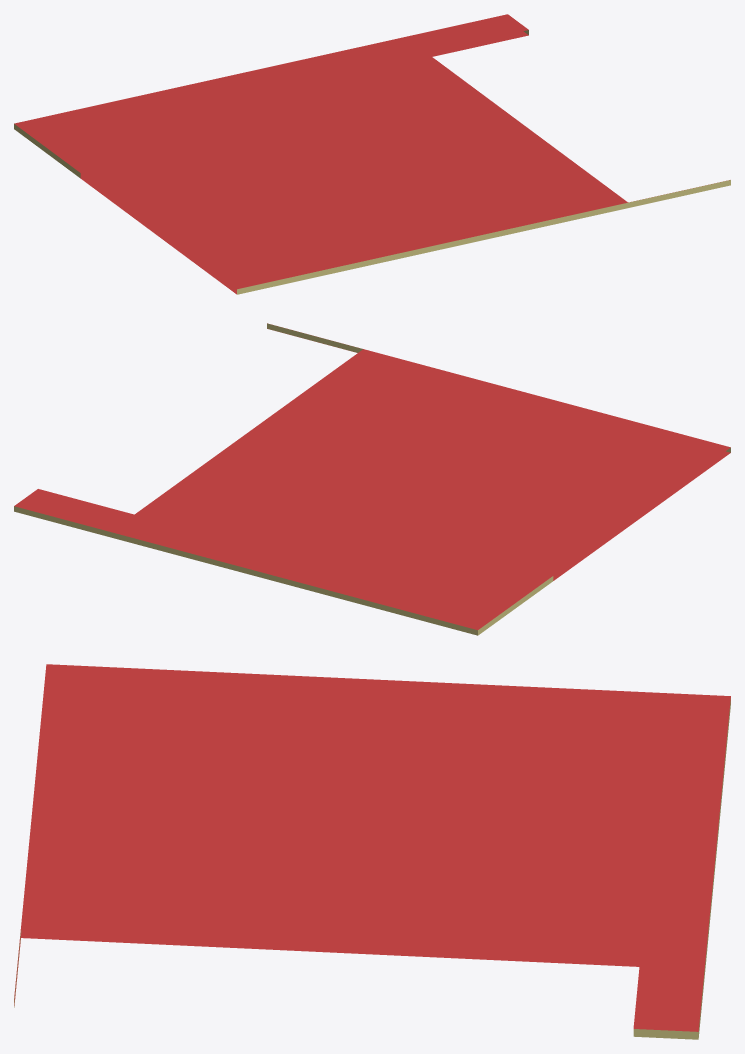
The picture shows the model from 3 angles, top to bottom: view 1: azimuth 30°, elevation 25°; view 2: azimuth 150°, elevation 25°; view 3: azimuth 270°, elevation 25°; orthographic projection. The views are drawn at different scales.
Bounding box in the file's own units: 9.45 × 8.24 × 0.356.
